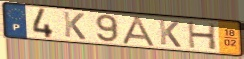4: (31, 7, 56, 40)
9: (93, 14, 121, 44)
A: (120, 15, 159, 48)
H: (186, 20, 219, 51)
K: (157, 18, 183, 49), (62, 10, 87, 41)
